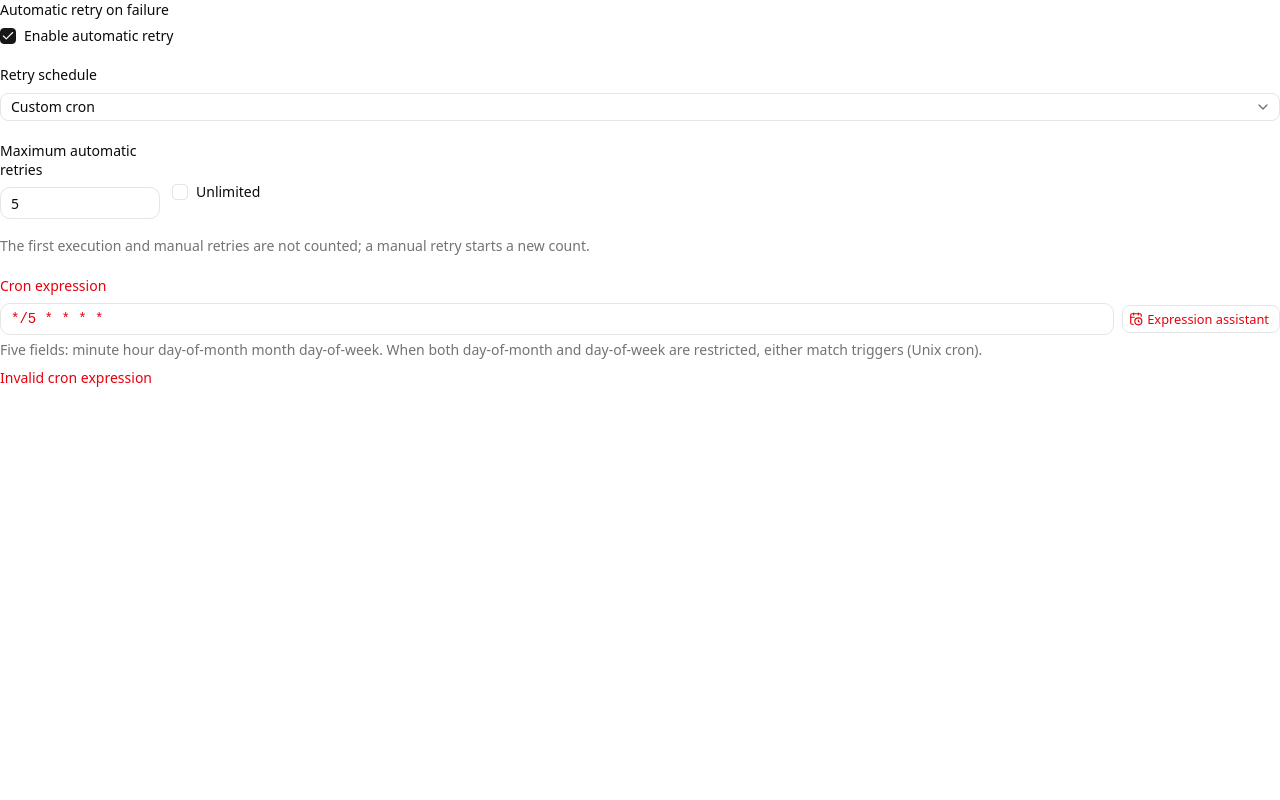
it: TerminalAutoRetrySettings › opens the assistant dialog from the button next to the input
Click the button "Expression assistant" at (1201, 319), box left=1122, top=305, right=1279, bottom=333
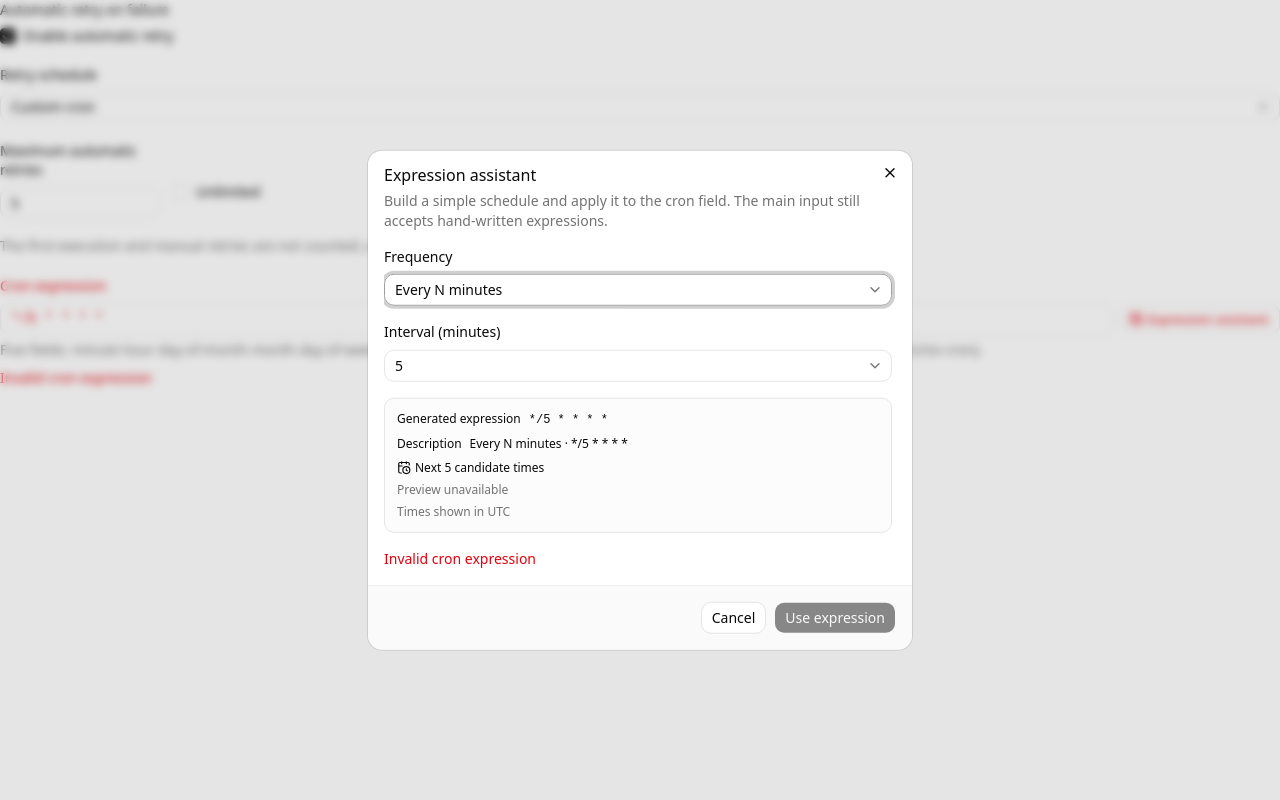
Expected: the dialog is shown, left=368, top=151, right=912, bottom=649
Expected: the button "Use expression" is shown, left=774, top=601, right=896, bottom=633
